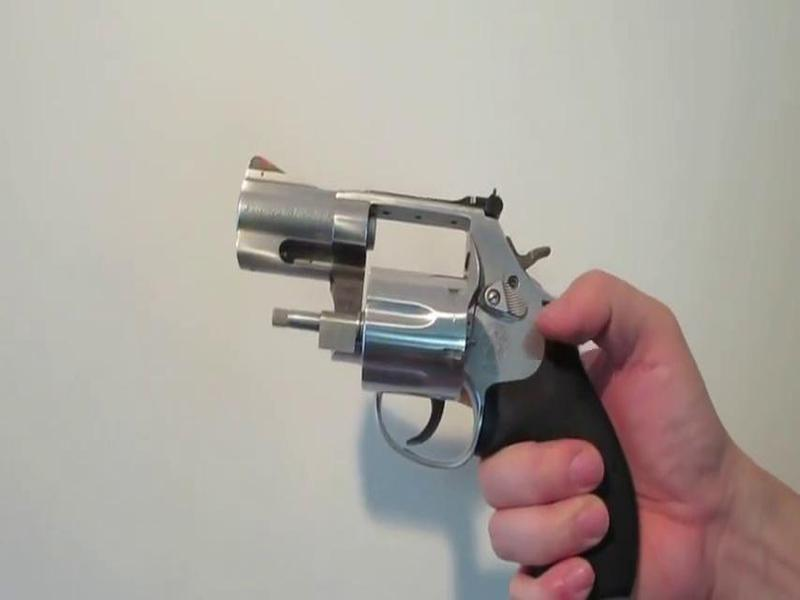Revolver: (226, 127, 685, 598)
